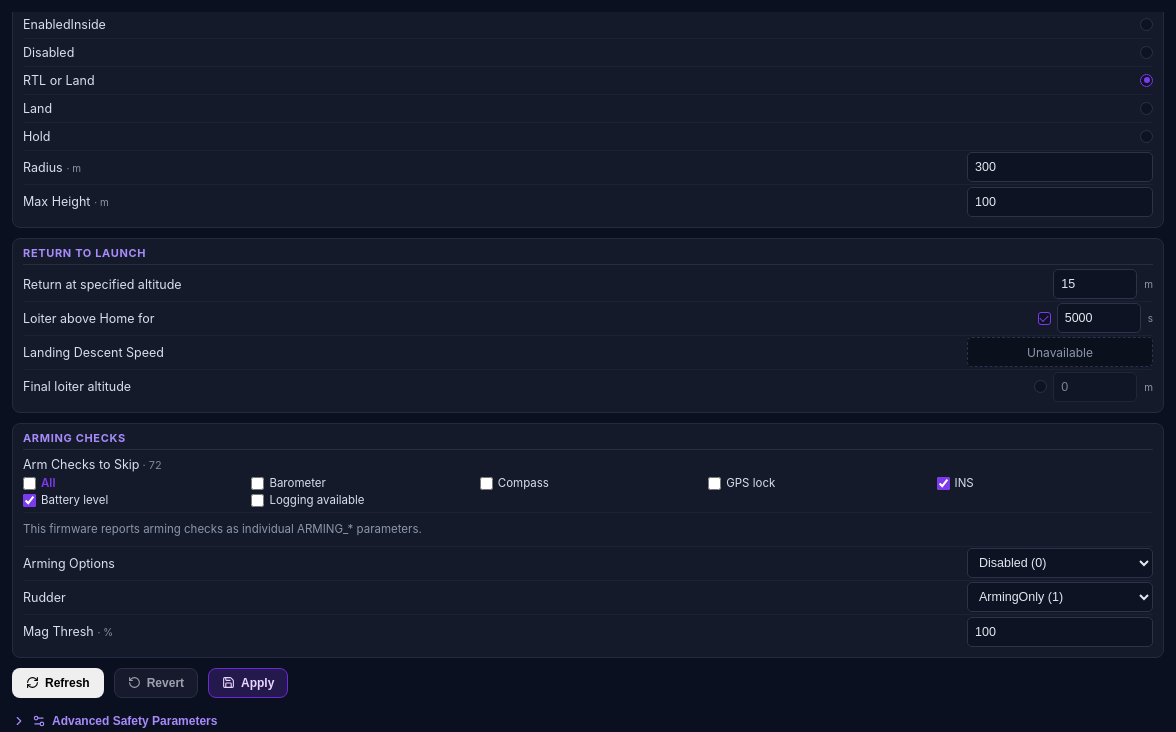
SetupSafety — live values, no hardcoding › moves the extra GeoFence parameters into Advanced, still bound to live values
(page scrolled)
Click the button with test id "safety-advanced-toggle": (115, 721) [12,710,217,731]
(page scrolled)
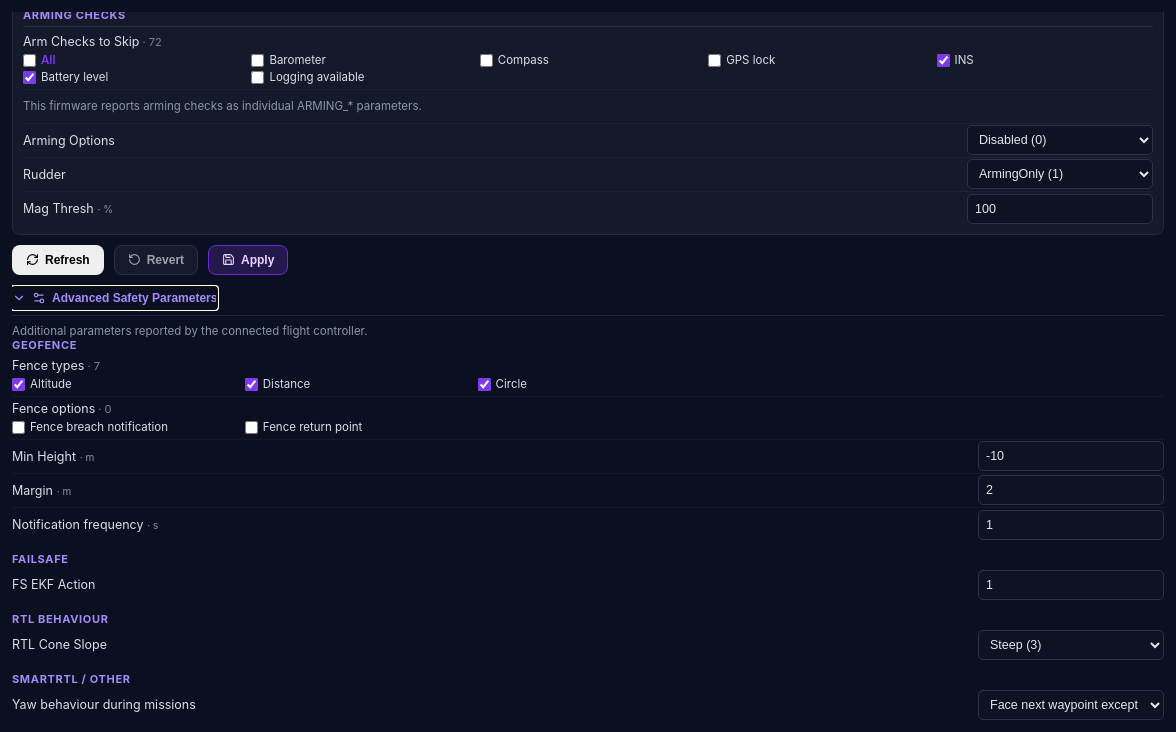
expect the number field with test id "safety-advanced-fence_alt_min" holds "-10": met, box [978,441,1164,471]
expect the number field with test id "safety-advanced-fence_margin" holds "2": met, box [978,475,1164,505]
expect the checkbox with test id "safety-advanced-fence_type-bit-0" is checked: met, box [12,378,25,391]
